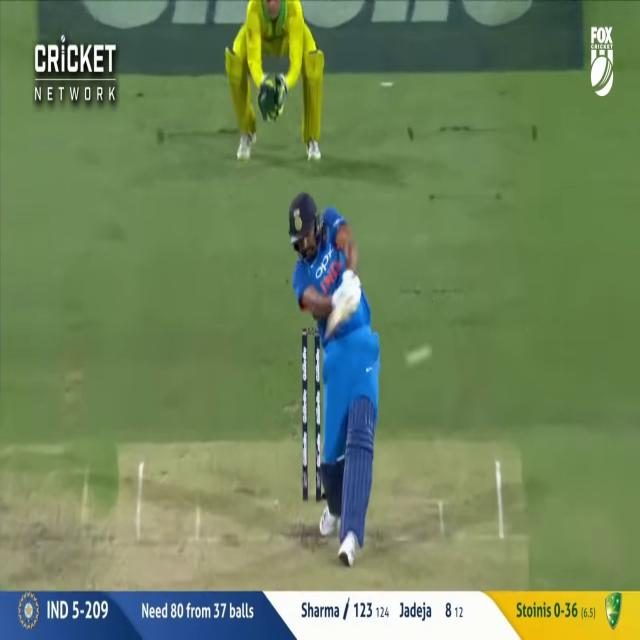ball: (405, 346, 431, 368)
stump: (302, 326, 324, 501)
